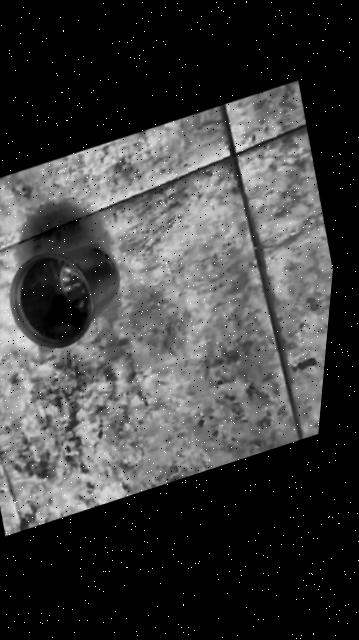pot: (0, 231, 134, 363)
